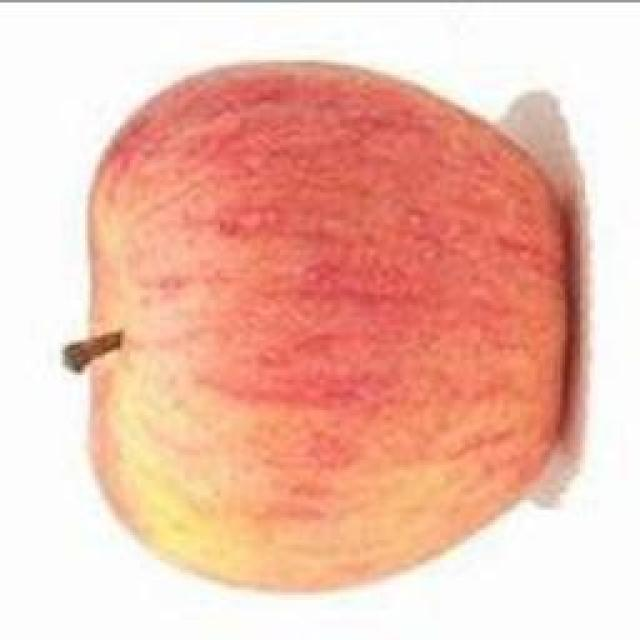apple: (64, 58, 585, 593)
